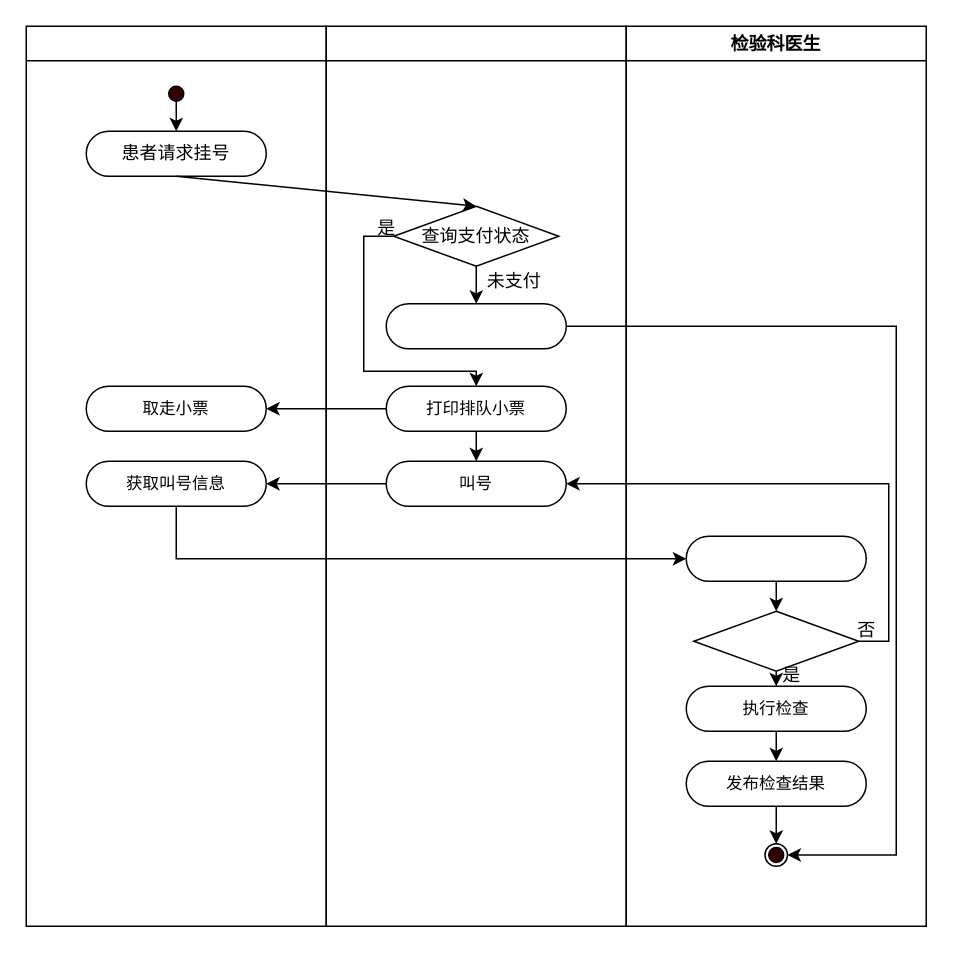
This 953x953 diagram has some shape labels left out. Each missing label, with the box of its shape:
患者: (25, 25, 326, 926)
报道机: (325, 25, 626, 926)
是本人: (692, 610, 859, 671)
显示需要先支付的提示: (385, 302, 566, 349)
确认患者身份: (685, 535, 866, 581)
